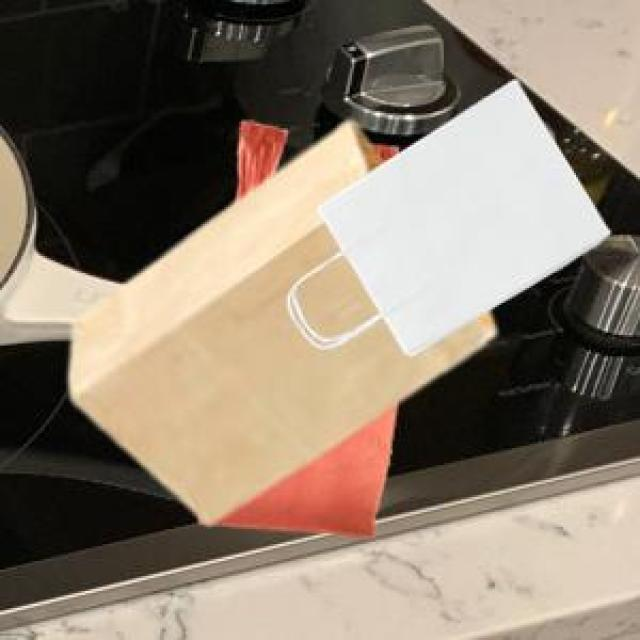paper: (66, 117, 491, 518), (284, 77, 606, 352)
